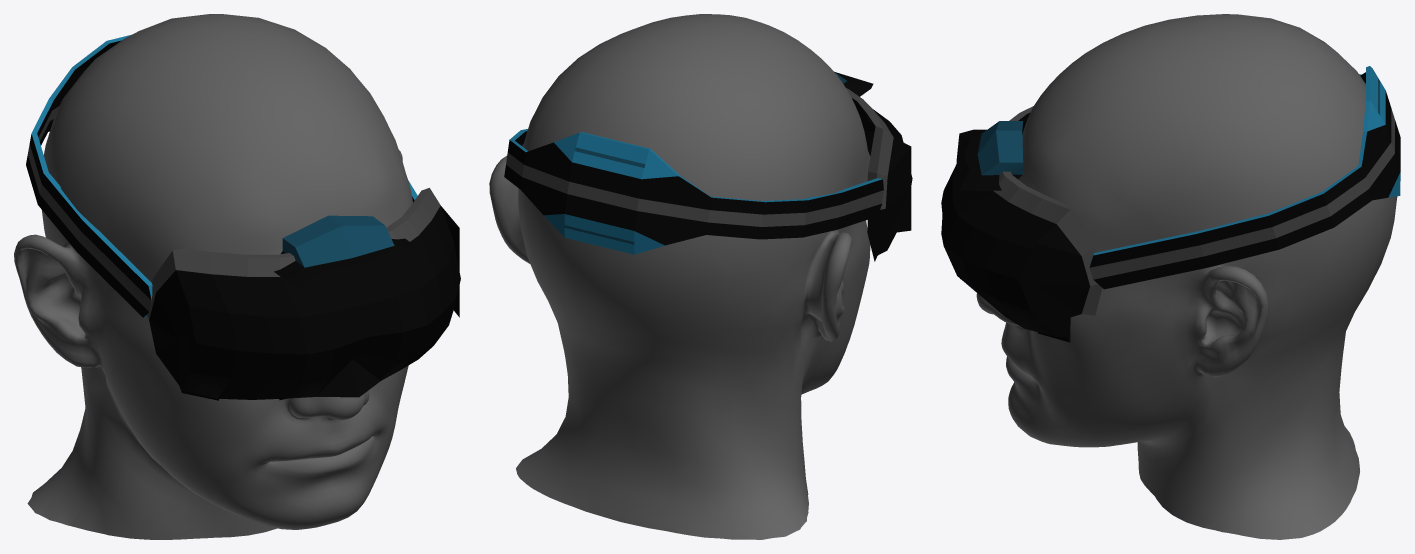
The model's file is Collable.gltf.
The picture shows the model from 3 angles, left to right: view 1: azimuth 30°, elevation 25°; view 2: azimuth 150°, elevation 25°; view 3: azimuth 270°, elevation 25°; orthographic projection. The views are drawn at different scales.
Visible parts, largest first — view 1: Male body reference, Sci-fi lowpoly VR Glasses.002, Strap, Sci-fi lowpoly VR Glasses.004; view 2: Male body reference, Strap, Sci-fi lowpoly VR Glasses.002; view 3: Male body reference, Sci-fi lowpoly VR Glasses.002, Strap, Sci-fi lowpoly VR Glasses.004.
Boxes of the visible parts, x1,y1,x2,y2 form: Male body reference: (14, 14, 412, 539); Sci-fi lowpoly VR Glasses.002: (147, 188, 460, 400); Strap: (26, 35, 417, 317); Sci-fi lowpoly VR Glasses.004: (274, 215, 422, 287); Male body reference: (489, 14, 870, 539); Strap: (504, 129, 883, 254); Sci-fi lowpoly VR Glasses.002: (846, 88, 912, 261); Male body reference: (976, 14, 1397, 539); Sci-fi lowpoly VR Glasses.002: (941, 106, 1102, 342); Strap: (1089, 66, 1400, 289); Sci-fi lowpoly VR Glasses.004: (956, 121, 1023, 190).
Bounding box in the file's own units: 2.66 × 3.12 × 2.94.
4 materials, 2 textured.
